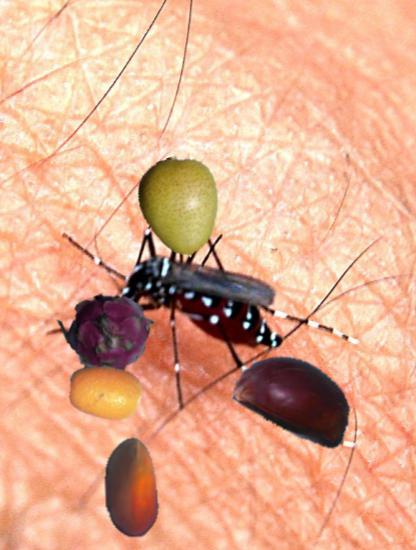Chestnut: (235, 335, 359, 459)
Hazelnut: (80, 435, 184, 539)
Kumquats: (68, 355, 143, 430)
Pear: (131, 156, 233, 258)
Pitahaya: (65, 289, 157, 381)
